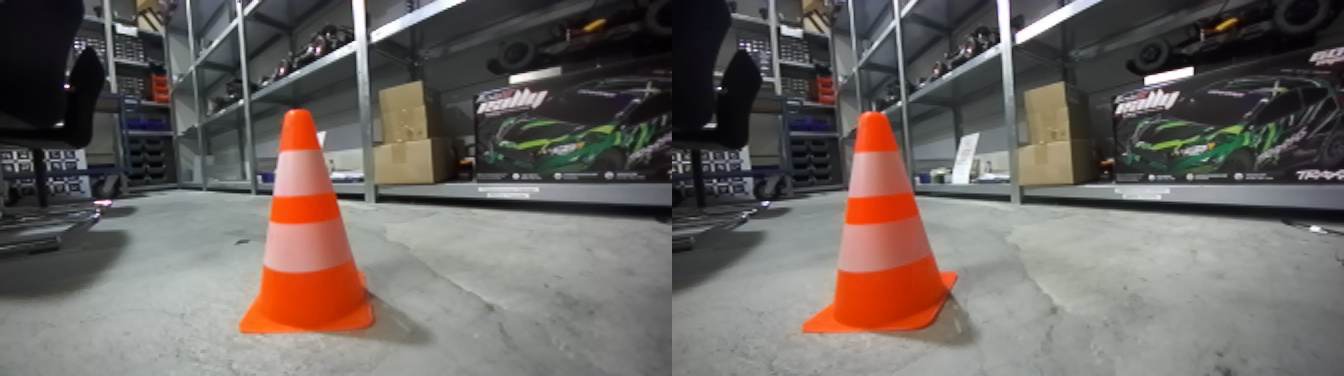cone: (789, 110, 969, 341), (239, 114, 380, 339)
